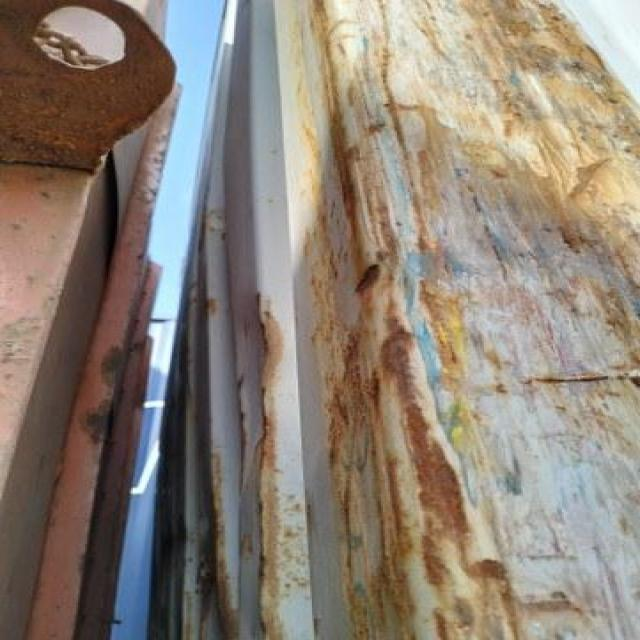rust: (258, 1, 637, 638)
